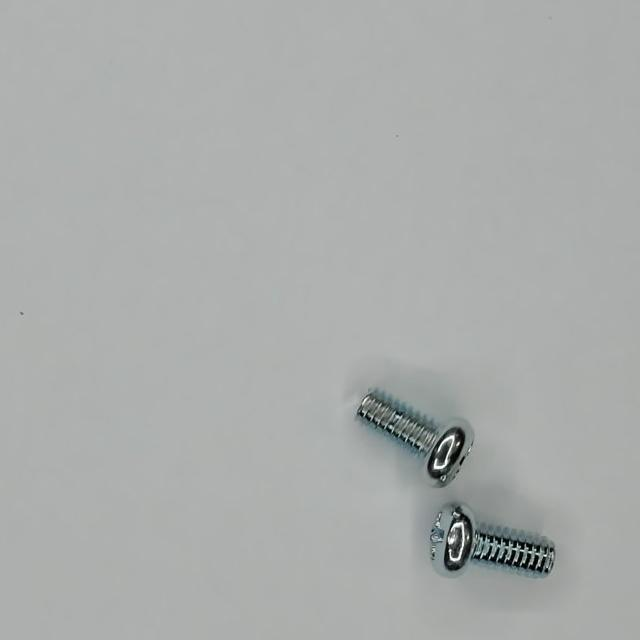Screw: (358, 390, 475, 488), (431, 505, 557, 578)
